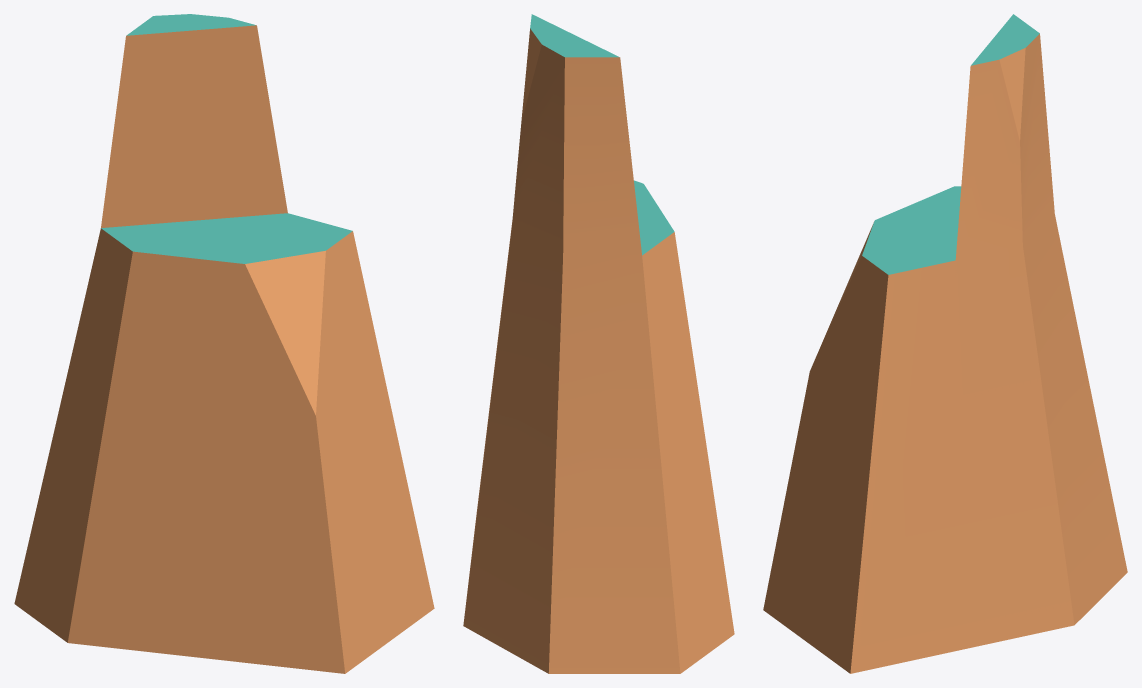
File: rock_tall4.fbx
3 renders of one model, left to right at view 1: azimuth 30°, elevation 25°; view 2: azimuth 150°, elevation 25°; view 3: azimuth 270°, elevation 25°, orthographic. The views are drawn at different scales.
Visible parts, largest first — view 1: rock_tall4; view 2: rock_tall4; view 3: rock_tall4.
Part boxes in pixels (<box>): rock_tall4: <box>14,14,434,673</box>; rock_tall4: <box>463,14,734,673</box>; rock_tall4: <box>763,14,1127,673</box>.
Bounding box in the file's own units: 4.43 × 7.72 × 4.61.
